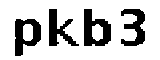3: (118, 5, 148, 50)
b: (81, 5, 112, 49)
k: (47, 7, 78, 51)
p: (13, 14, 42, 60)
